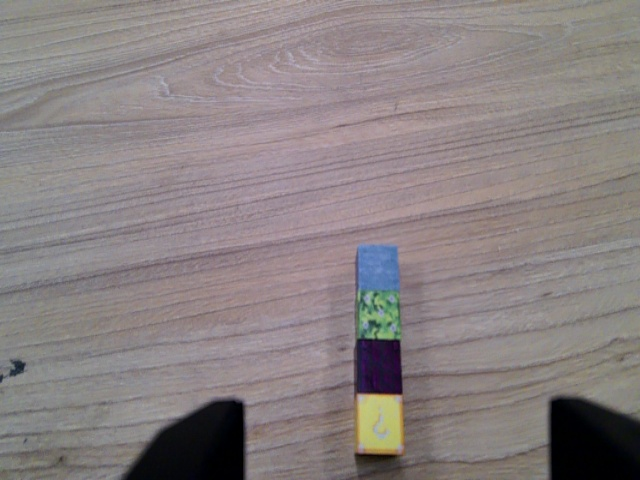brick: (349, 343, 404, 394)
grass: (352, 291, 403, 340)
lucky: (353, 393, 407, 456)
stone: (353, 241, 402, 292)
